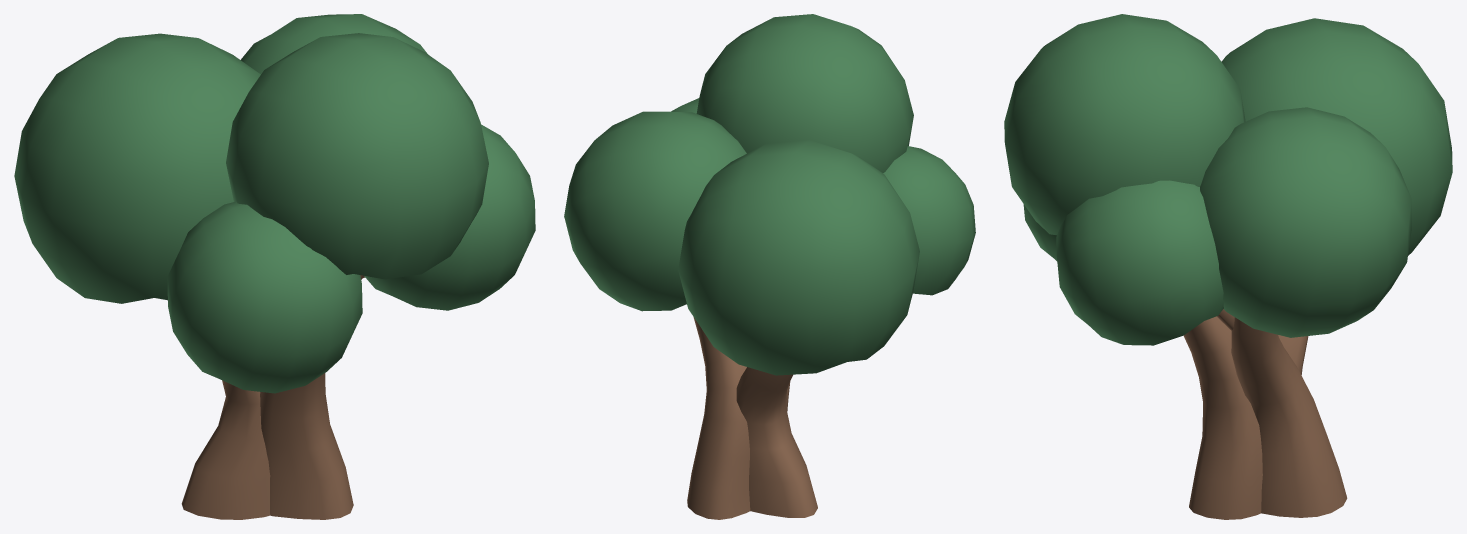
File: Tree_C.fbx
3 renders of one model, left to right at view 1: azimuth 30°, elevation 25°; view 2: azimuth 150°, elevation 25°; view 3: azimuth 270°, elevation 25°, orthographic. The views are drawn at different scales.
Visible parts, largest first — view 1: TreeLeaves_C, TreeTrunk_C; view 2: TreeLeaves_C, TreeTrunk_C; view 3: TreeLeaves_C, TreeTrunk_C.
Boxes of the visible parts, x1,y1,x2,y2 form: TreeLeaves_C: (14, 14, 535, 393); TreeTrunk_C: (181, 275, 364, 519); TreeLeaves_C: (564, 14, 975, 375); TreeTrunk_C: (687, 317, 817, 519); TreeLeaves_C: (1004, 14, 1452, 345); TreeTrunk_C: (1183, 309, 1347, 519).
Size of the model in its own units: 83.18 by 101 by 86.45.
